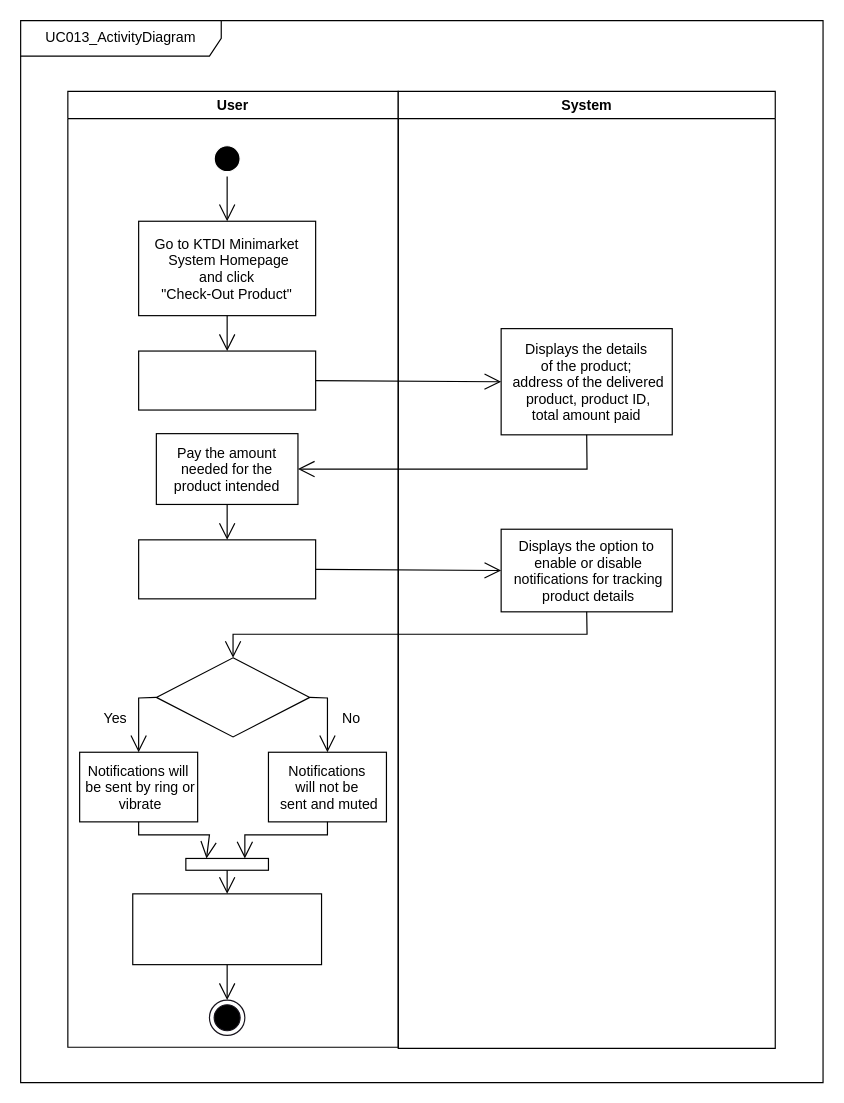
The diagram is 844 pixels wide and 1103 high, and some of its shapes have lost their labels. Each missing label, with the centre of its shape:
Click the "Confirm Order" button: point 226,380
Click the "Track My Order" button: point 226,569
Enable notifications: point 232,697
Go back to the KTDI Minimarket System Homepage: point 227,929
